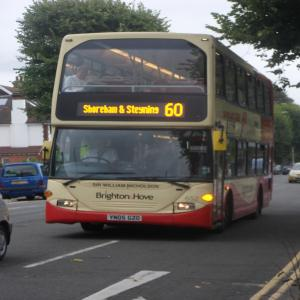Vehicle-registration-plate: (107, 215, 142, 223), (13, 182, 26, 184)
